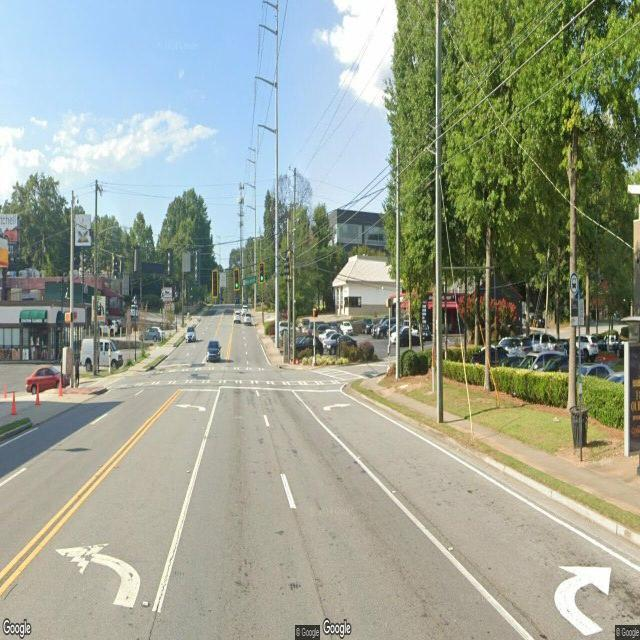shelter: (617, 314, 640, 464)
trash_can: (569, 404, 588, 451)
